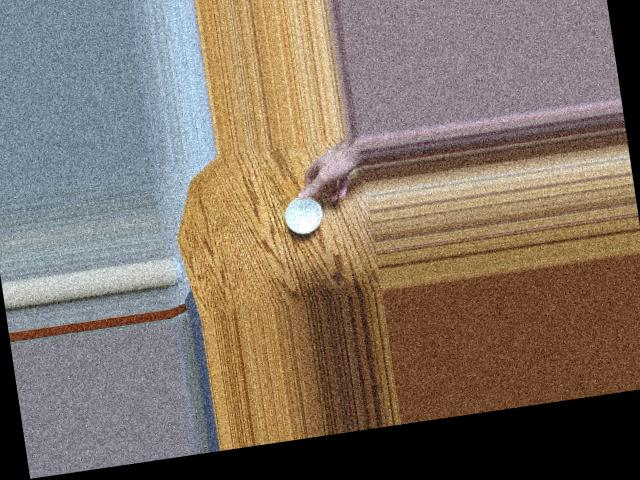cotage: (277, 187, 329, 239)
